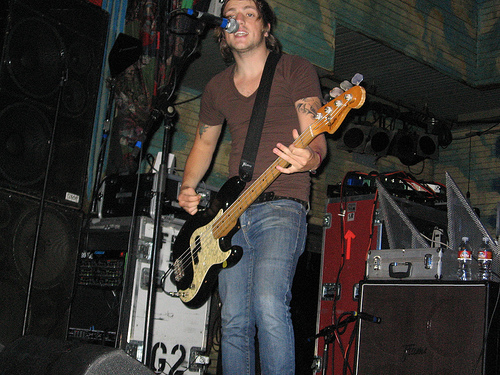without_mask: (211, 1, 280, 62)
